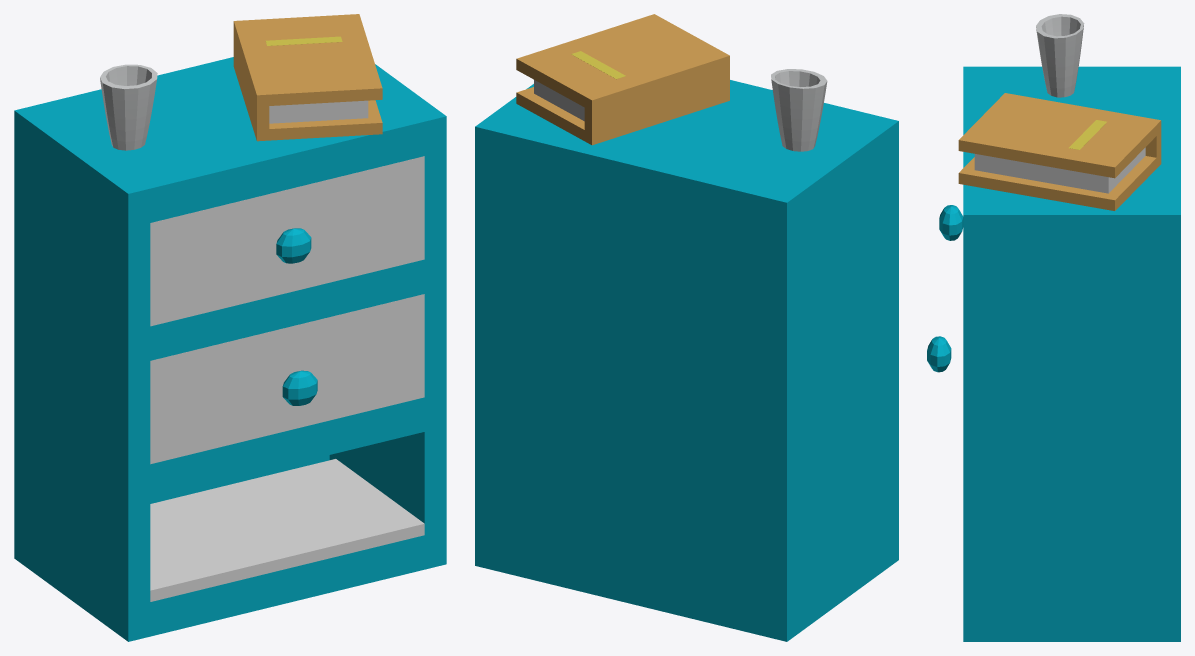
File: SIDE TABLE MODEL.glb
The picture shows the model from 3 angles, left to right: view 1: azimuth 30°, elevation 25°; view 2: azimuth 150°, elevation 25°; view 3: azimuth 270°, elevation 25°; orthographic projection. The views are drawn at different scales.
Visible parts, largest first — view 1: Mesh_Mesh_head_geo.001_lambert2SG.001; view 2: Mesh_Mesh_head_geo.001_lambert2SG.001; view 3: Mesh_Mesh_head_geo.001_lambert2SG.001.
Boxes of the visible parts, x1,y1,x2,y2 form: Mesh_Mesh_head_geo.001_lambert2SG.001: (14, 14, 446, 641); Mesh_Mesh_head_geo.001_lambert2SG.001: (475, 14, 898, 641); Mesh_Mesh_head_geo.001_lambert2SG.001: (927, 14, 1180, 641).
Bounding box in the file's own units: 29 × 45 × 21.
